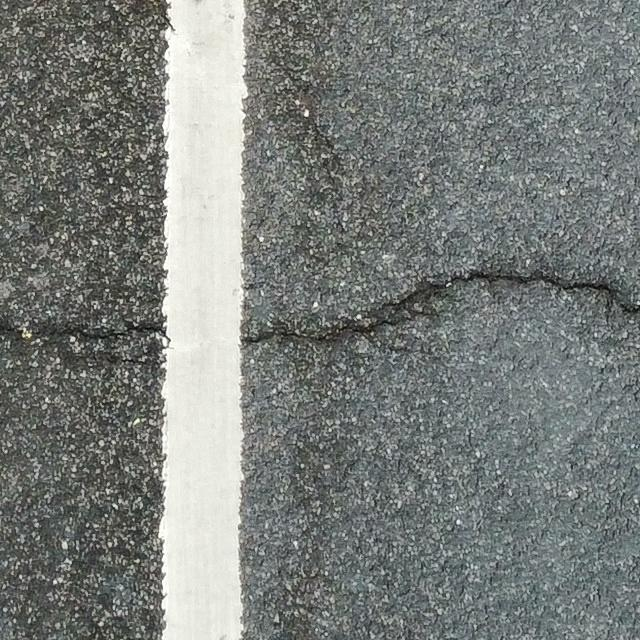TransverseCrack: (3, 274, 640, 356)
